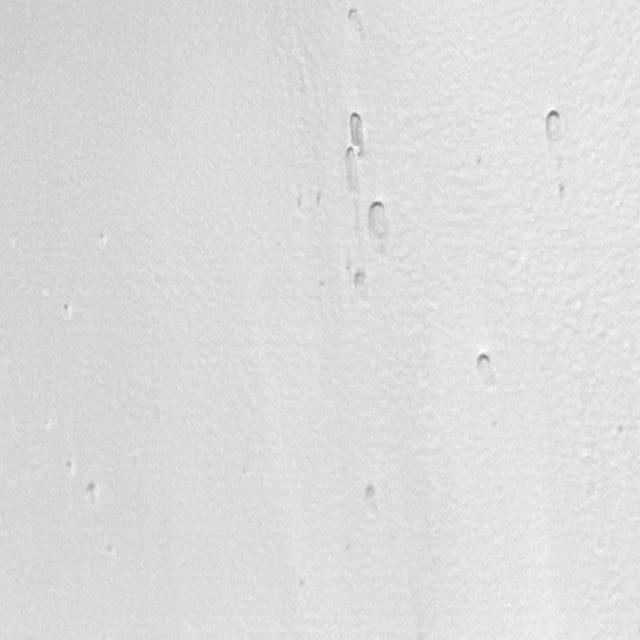pin holes: (365, 202, 393, 248), (350, 107, 372, 165), (346, 144, 362, 210), (543, 109, 568, 145), (472, 351, 498, 383), (351, 268, 373, 296), (361, 481, 381, 507), (84, 481, 102, 507), (345, 2, 365, 24), (612, 421, 630, 443), (556, 181, 572, 204), (314, 188, 324, 214), (63, 459, 76, 476), (97, 230, 109, 247), (61, 302, 72, 317), (476, 153, 484, 170), (298, 574, 305, 593), (296, 196, 302, 210)
